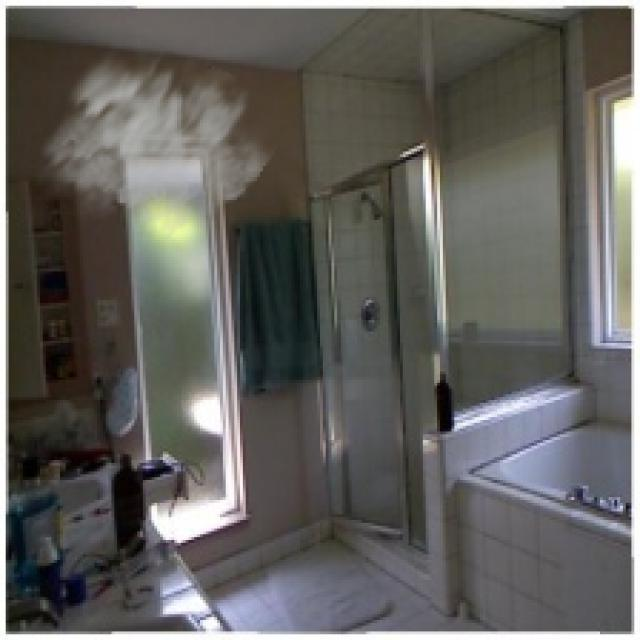Smoke: (31, 26, 283, 240)
